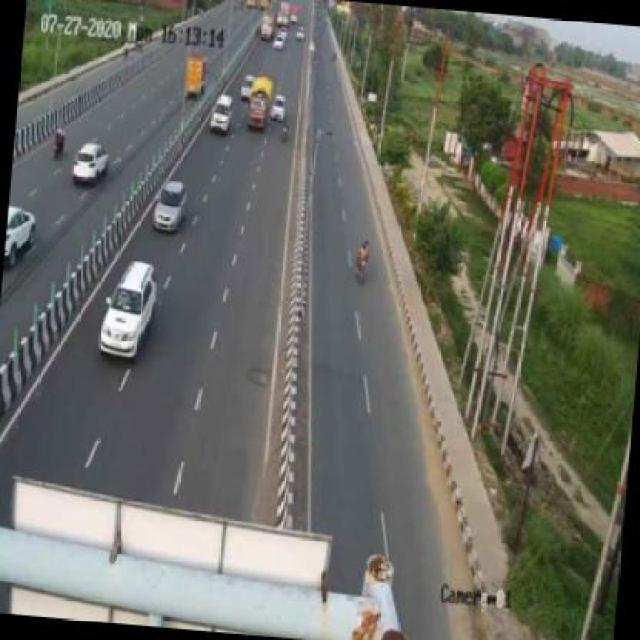car: (99, 259, 163, 363), (152, 177, 188, 235), (71, 140, 111, 188), (204, 91, 238, 138), (270, 90, 292, 122)
